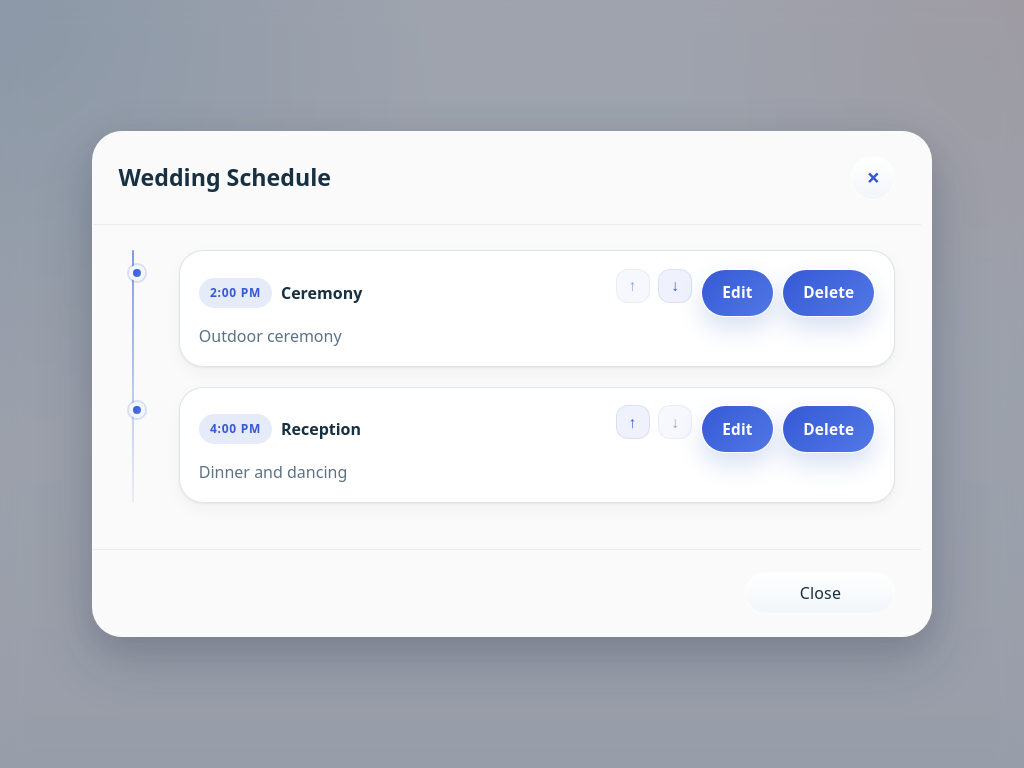
Scenario: ScheduleModal › opens the edit form when Edit is clicked
Click the button "Edit" in the row of "2:00 PM" at (737, 293), box x1=701 y1=269 x2=774 y2=317
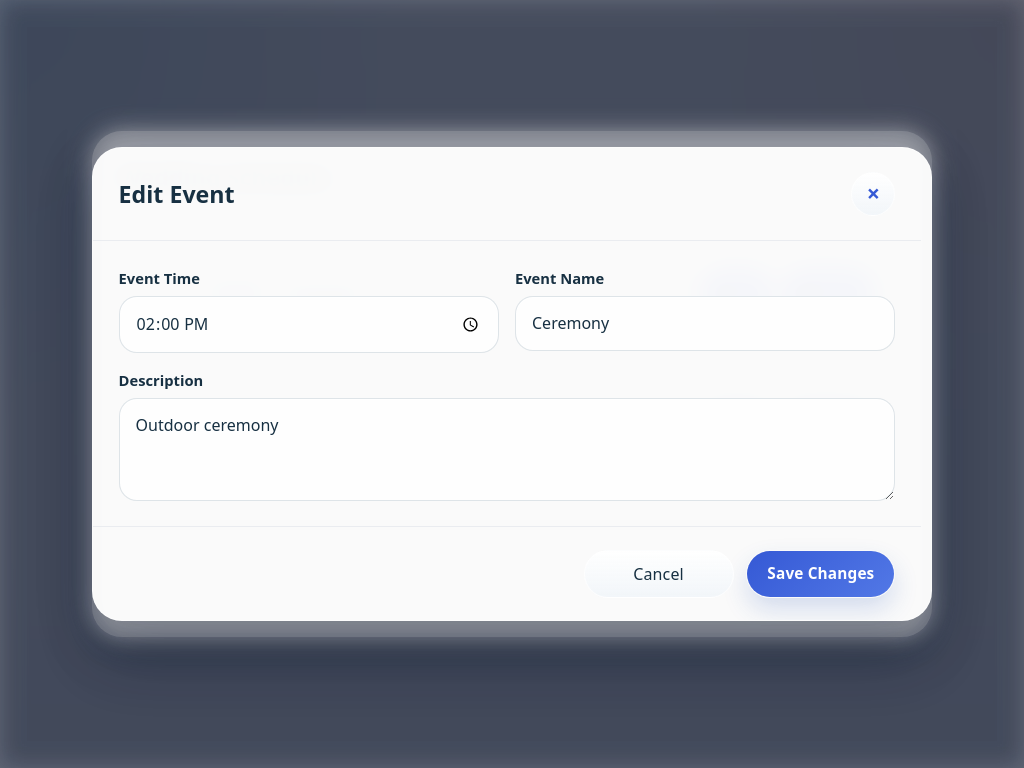
Expected: the heading "Edit Event" is shown, x1=119 y1=176 x2=235 y2=211
